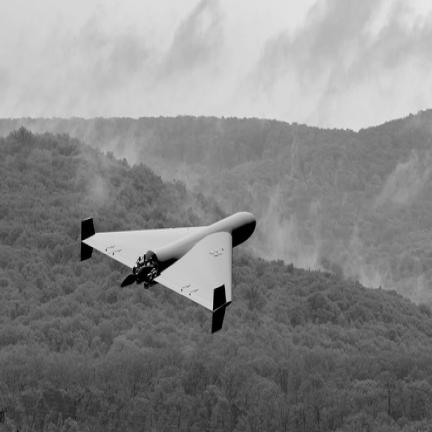Shahed: (81, 212, 256, 333)
